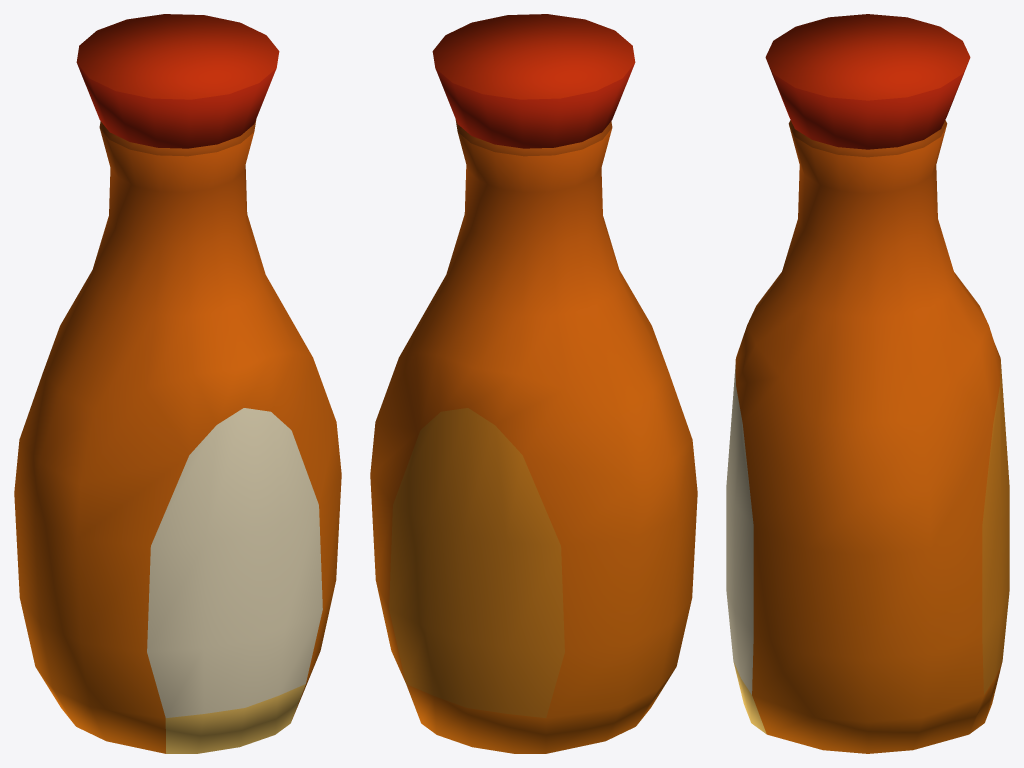
Rendered from SauceBottle_Medium.fbx.
The picture shows the model from 3 angles, left to right: view 1: azimuth 30°, elevation 25°; view 2: azimuth 150°, elevation 25°; view 3: azimuth 270°, elevation 25°; orthographic projection.
Visible parts, largest first — view 1: SauceBottle_Medium; view 2: SauceBottle_Medium; view 3: SauceBottle_Medium.
Boxes of the visible parts, x1,y1,x2,y2 form: SauceBottle_Medium: (14,14,341,753); SauceBottle_Medium: (370,14,697,753); SauceBottle_Medium: (726,14,1009,753).
Bounding box in the file's own units: 41.52 × 89.46 × 35.49.
